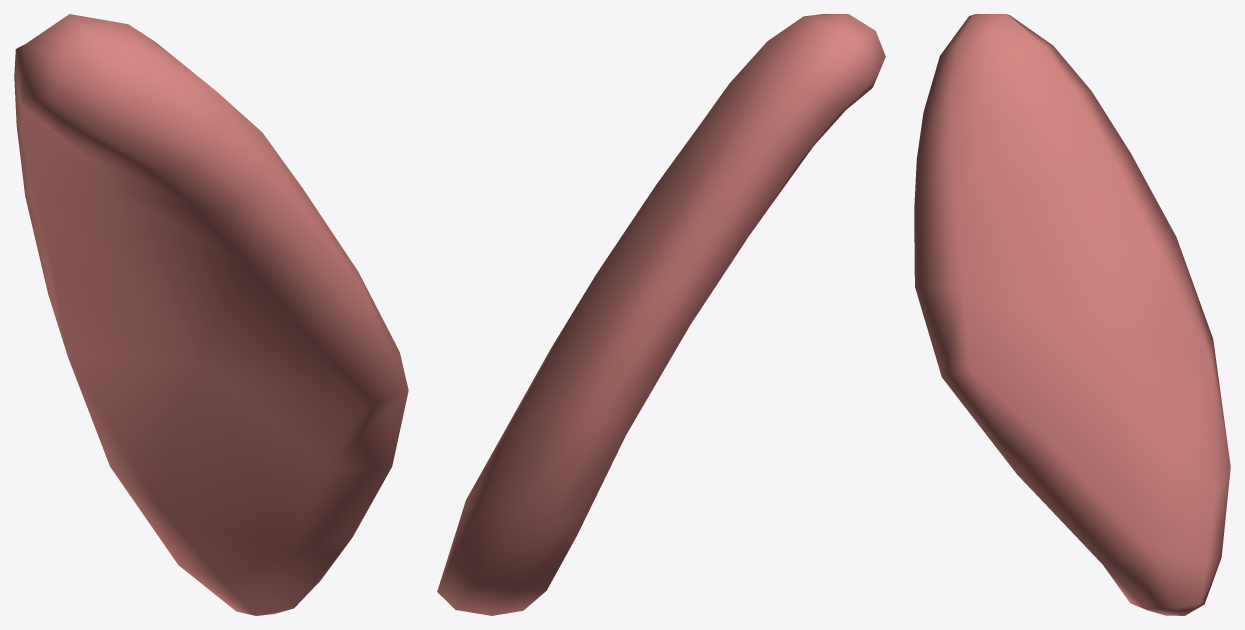
3 views of the same model, side by side, from view 1: azimuth 30°, elevation 25°; view 2: azimuth 150°, elevation 25°; view 3: azimuth 270°, elevation 25° (orthographic). The views are drawn at different scales.
Visible parts, largest first — view 1: ZA_d52f9dccad3529ce; view 2: ZA_d52f9dccad3529ce; view 3: ZA_d52f9dccad3529ce.
Part boxes in pixels (<box>): ZA_d52f9dccad3529ce: <box>14,14,408,615</box>; ZA_d52f9dccad3529ce: <box>437,14,885,615</box>; ZA_d52f9dccad3529ce: <box>914,14,1230,615</box>.
Bounding box in the file's own units: 0.00164 × 0.00275 × 0.00159.
